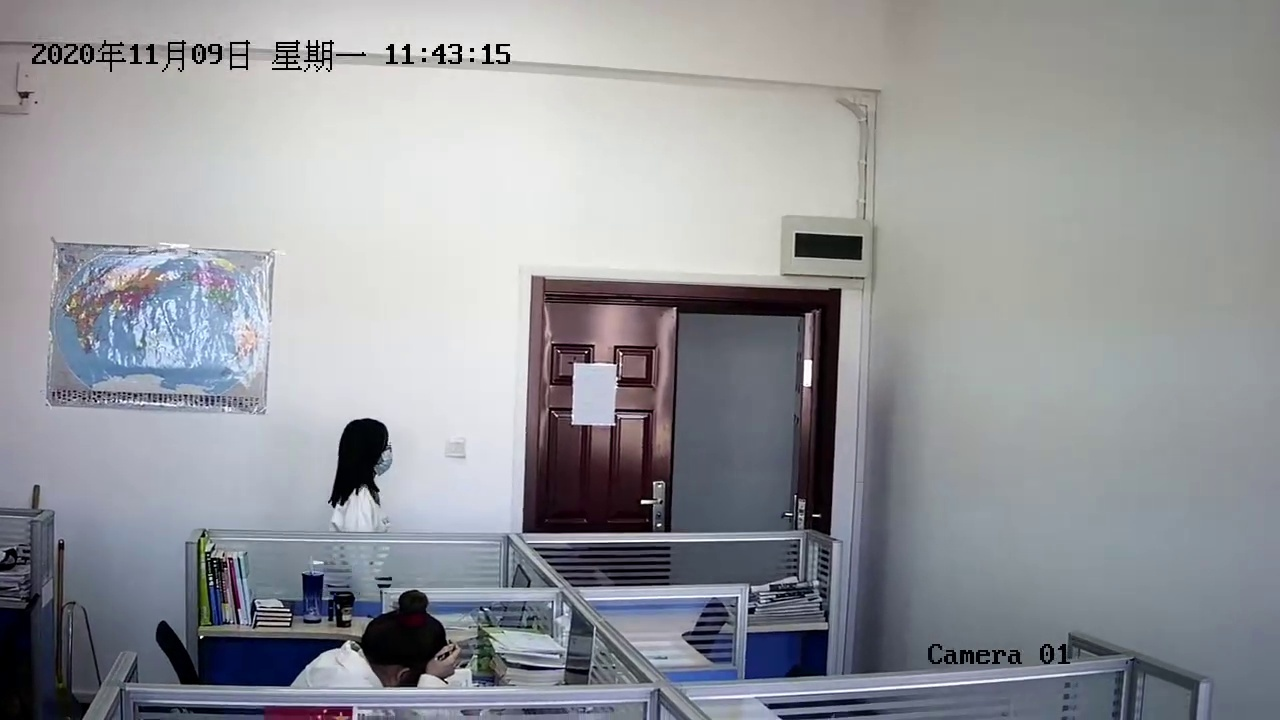mask: (351, 422, 394, 479)
